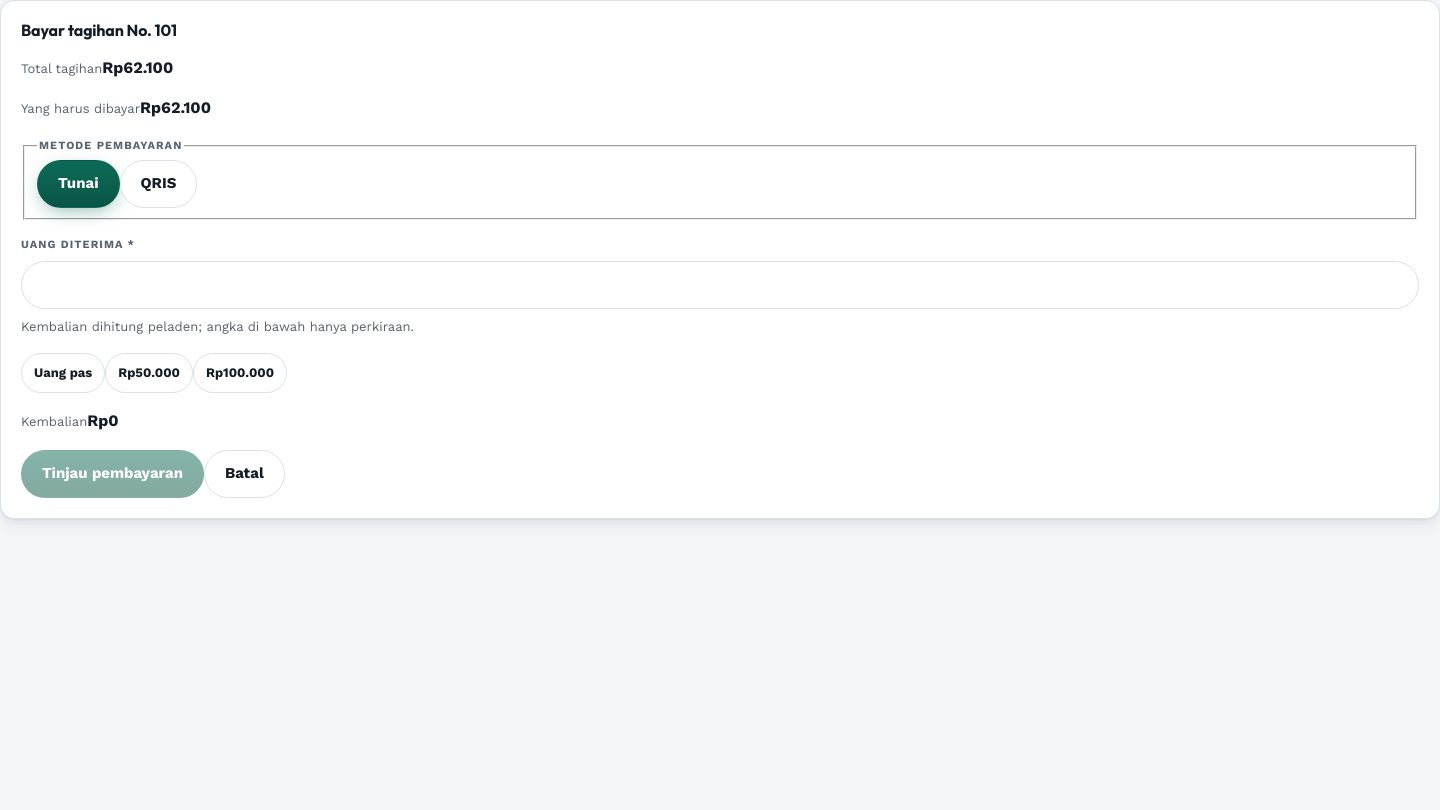
Scenario: Bayar (T5-01) › uang diterima kurang → tinjau terkunci dan selisihnya disebut
Click the button "Rp50.000" at (149, 373), box [105, 353, 193, 393]
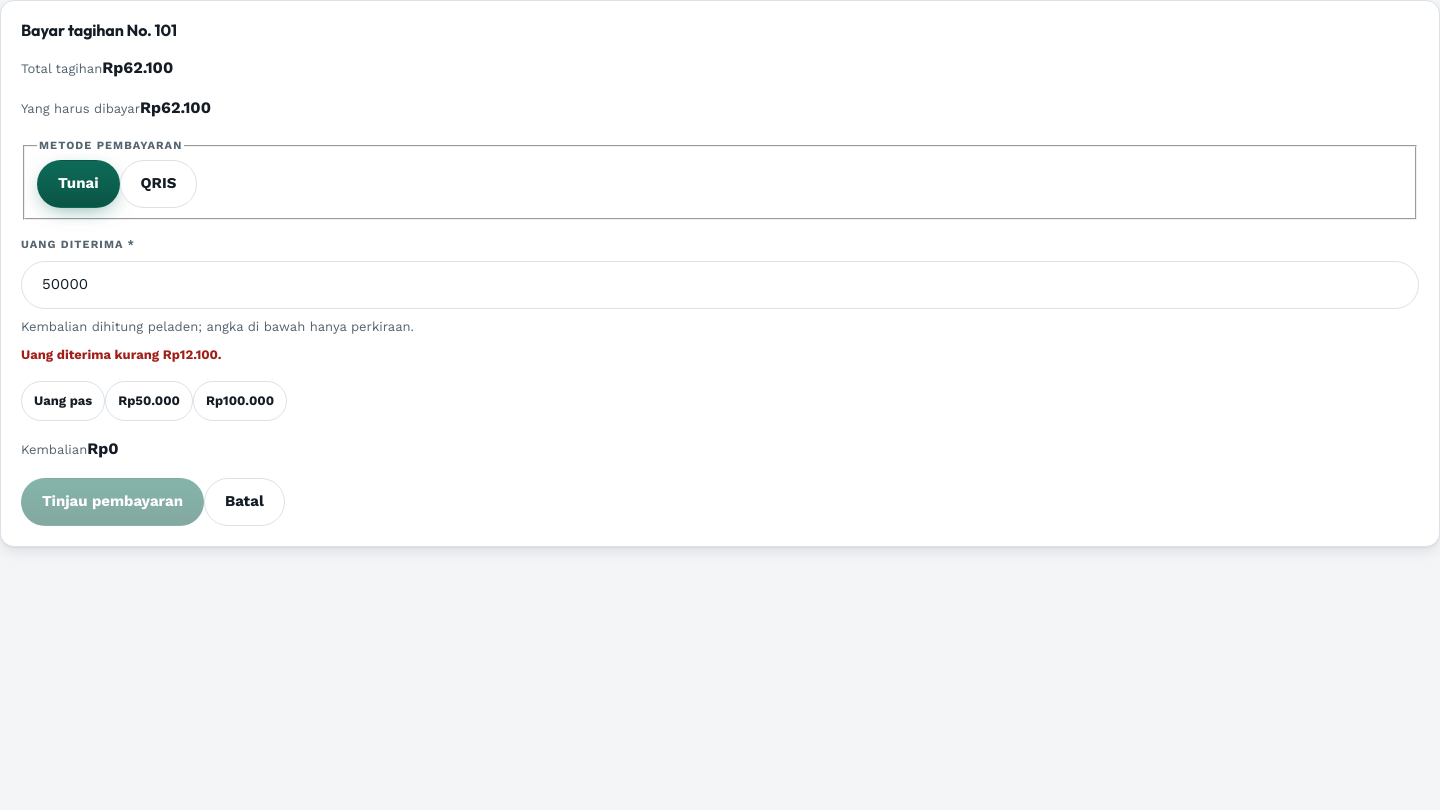
Expected: the button "Tinjau pembayaran" is disabled, [21, 478, 204, 526]
Expected: the text "Uang diterima kurang Rp12.100." is shown, [21, 347, 222, 362]
